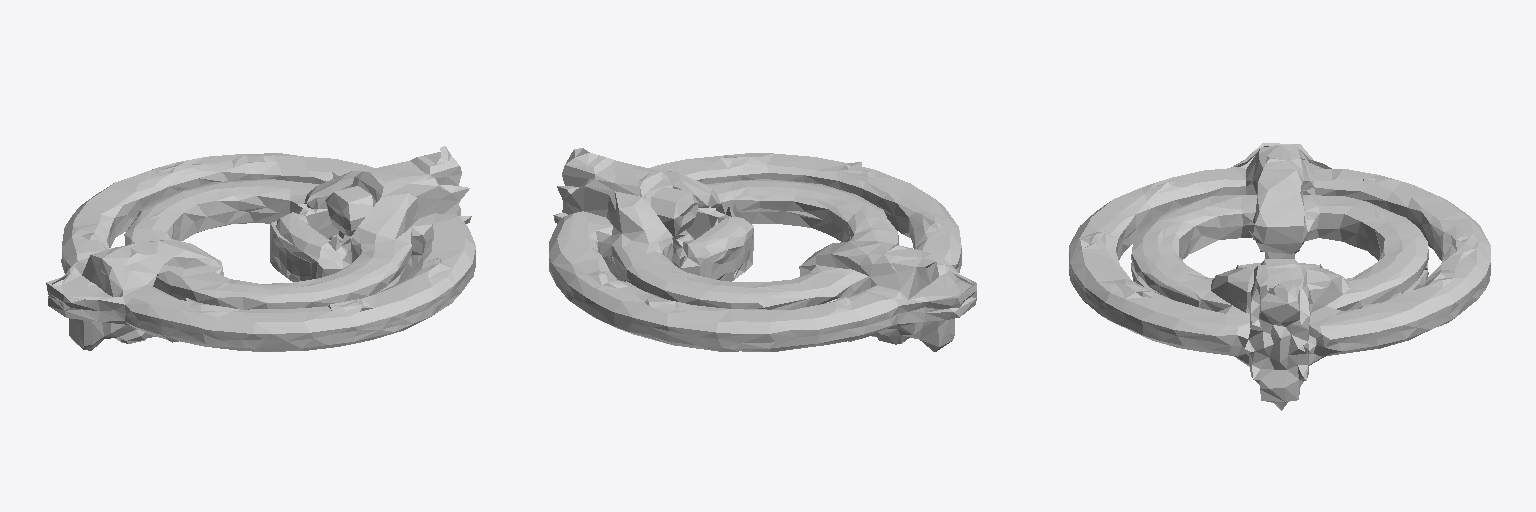
File: SpaceStation.obj
3 renders of one model, left to right at view 1: azimuth 30°, elevation 25°; view 2: azimuth 150°, elevation 25°; view 3: azimuth 270°, elevation 25°, orthographic.
Visible parts, largest first — view 1: Futuristic_orbital_sp_[number redacted]_texture; view 2: Futuristic_orbital_sp_[number redacted]_texture; view 3: Futuristic_orbital_sp_[number redacted]_texture.
Part boxes in pixels (bbox=[...]): Futuristic_orbital_sp_[number redacted]_texture: bbox=[46, 146, 475, 351]; Futuristic_orbital_sp_[number redacted]_texture: bbox=[549, 148, 976, 351]; Futuristic_orbital_sp_[number redacted]_texture: bbox=[1069, 143, 1490, 410].
Size of the model in its own units: 1.92 by 0.5727 by 1.74.